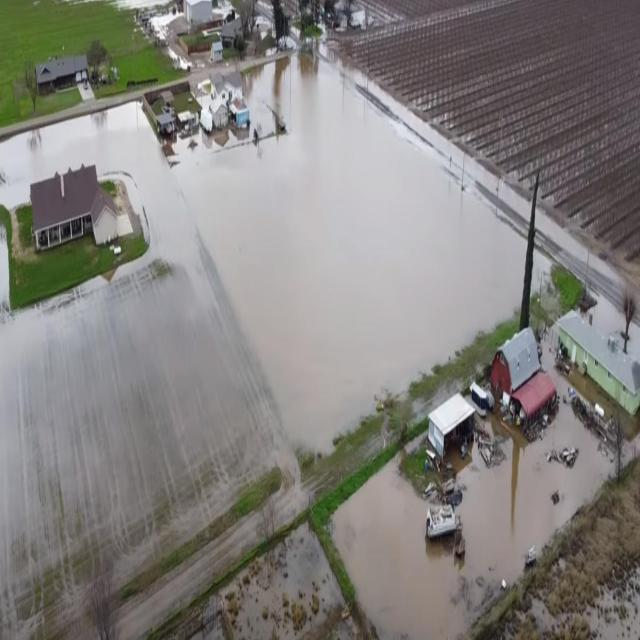flood: (0, 50, 527, 635), (333, 380, 612, 636), (348, 67, 532, 232), (537, 210, 626, 309)
house: (560, 304, 640, 416), (492, 321, 558, 438), (26, 155, 98, 254), (429, 393, 477, 470), (31, 52, 96, 92), (92, 186, 118, 249), (185, 0, 216, 28), (210, 96, 229, 134), (230, 94, 250, 130), (157, 110, 176, 143), (211, 41, 224, 68), (181, 110, 199, 129)
